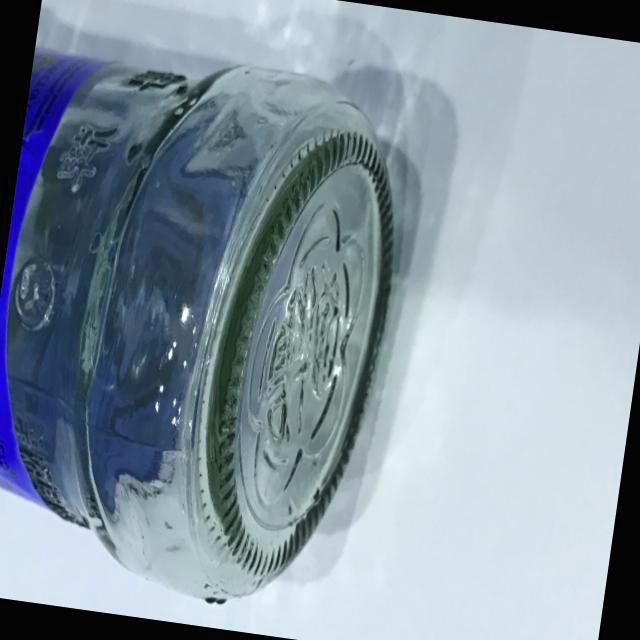glass: (0, 28, 424, 629)
